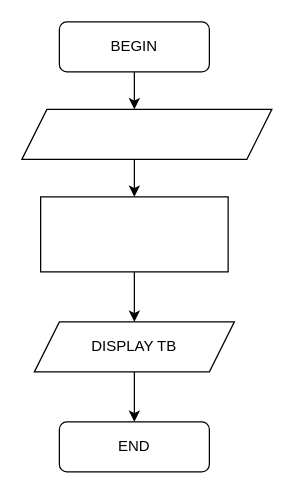
The diagram is 294 pixels wide and 494 high, and some of its shapes have lost their labels. Each missing label, with the centre of its shape:
INPUT TOAN,LY,HOA: (146,133)
TB=(TOAN+LY+HOA)/3: (133,234)
